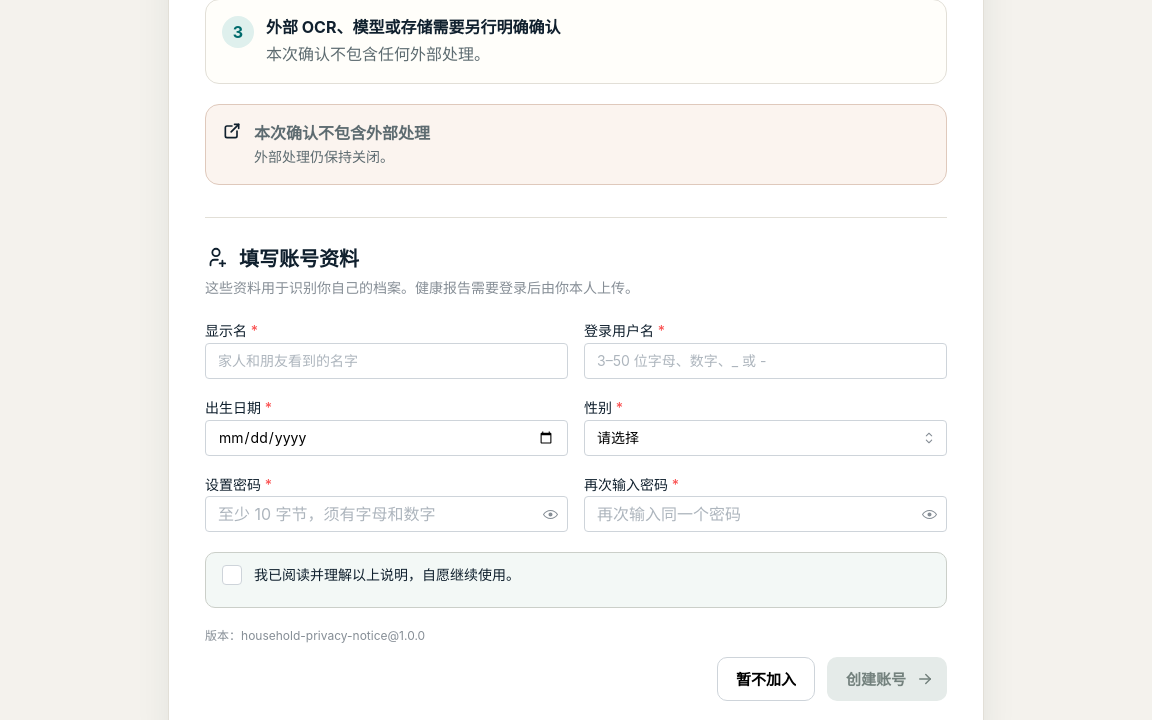
Test: AccountInvitationActivation › activates one ordinary account only after explicit confirmation
(page scrolled)
Type "虚构成员甲" into the field labelled "显示名".
click(386, 361); type("虚构成员甲")  # box [205,343,568,379]
Type "member01" into the field labelled "登录用户名".
click(766, 361); type("member01")  # box [584,343,947,379]
Type "1990-01-01" into the date field labelled "出生日期".
click(386, 438); type("1990-01-01")  # box [205,420,568,456]
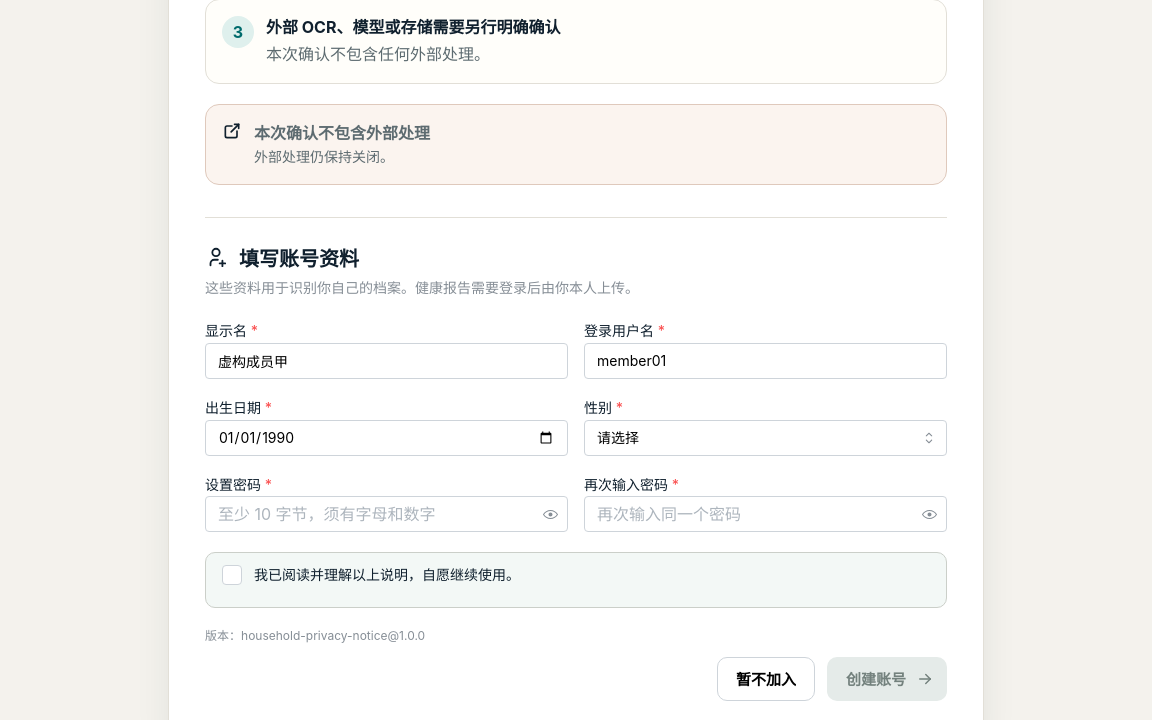
Select "暂不说明" in the dropdown labelled "性别" at (766, 438), box [584,420,947,456]
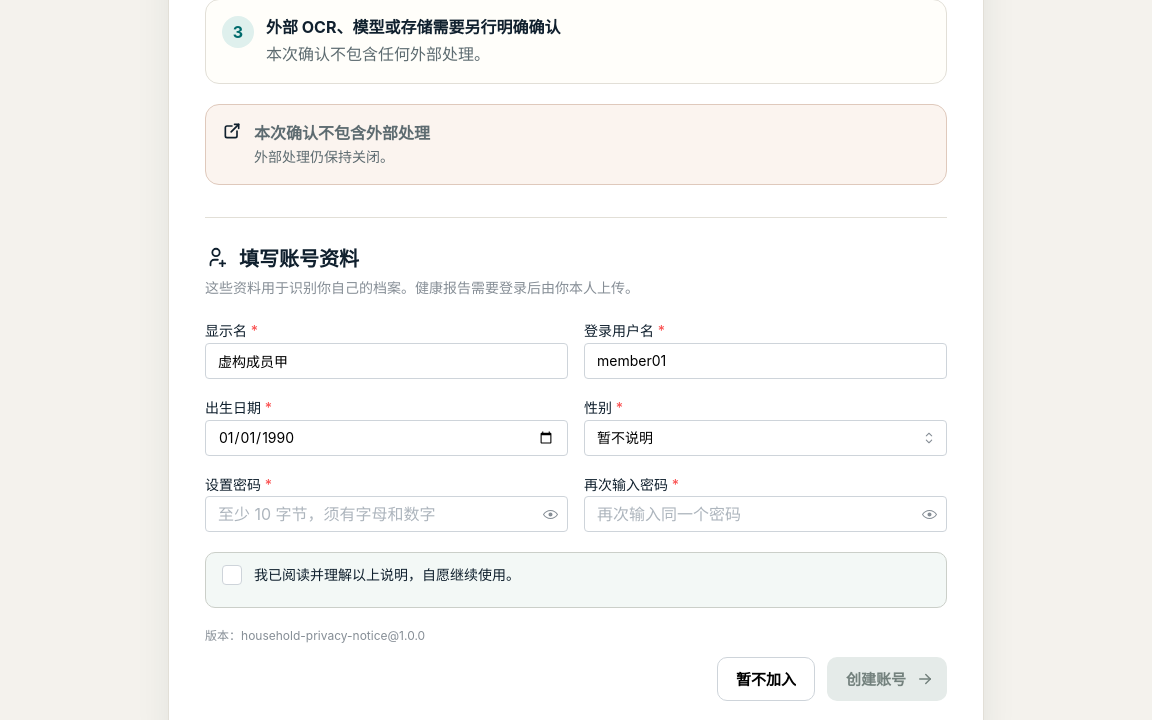
Type "SyntheticMemberPassword9" into the password field labelled "设置密码".
click(386, 514); type("SyntheticMemberPassword9")  # box [206,497,567,531]
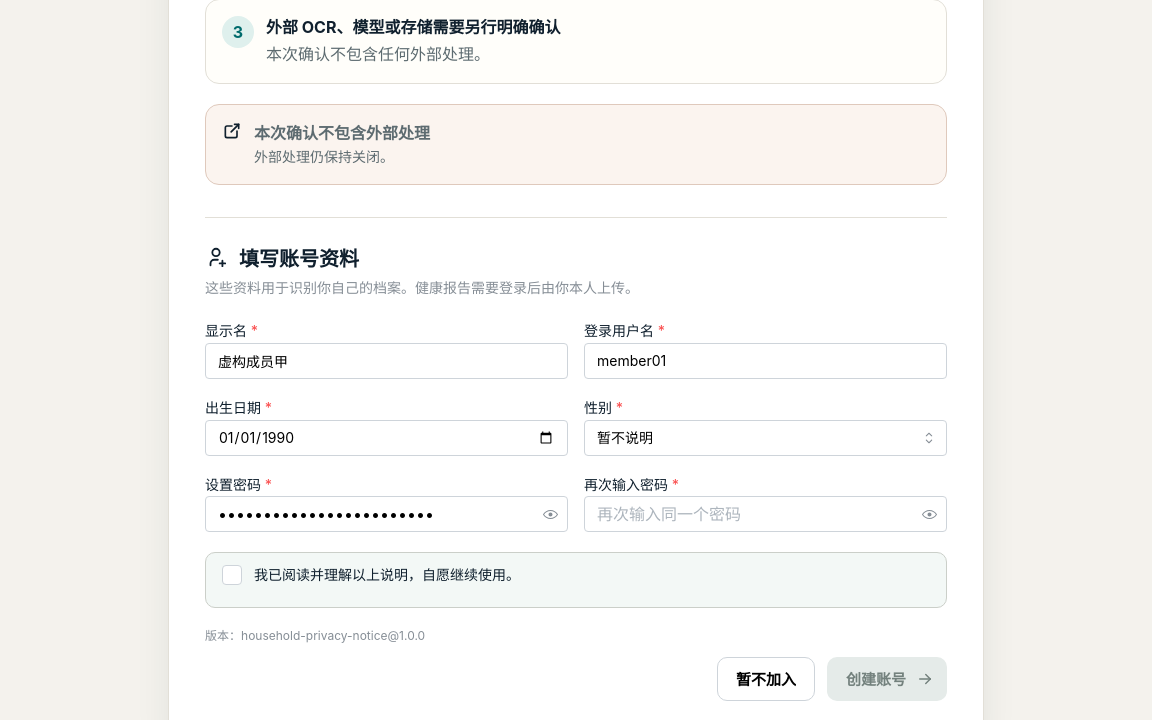
Type "SyntheticMemberPassword9" into the password field labelled "再次输入密码".
click(766, 514); type("SyntheticMemberPassword9")  # box [585,497,946,531]
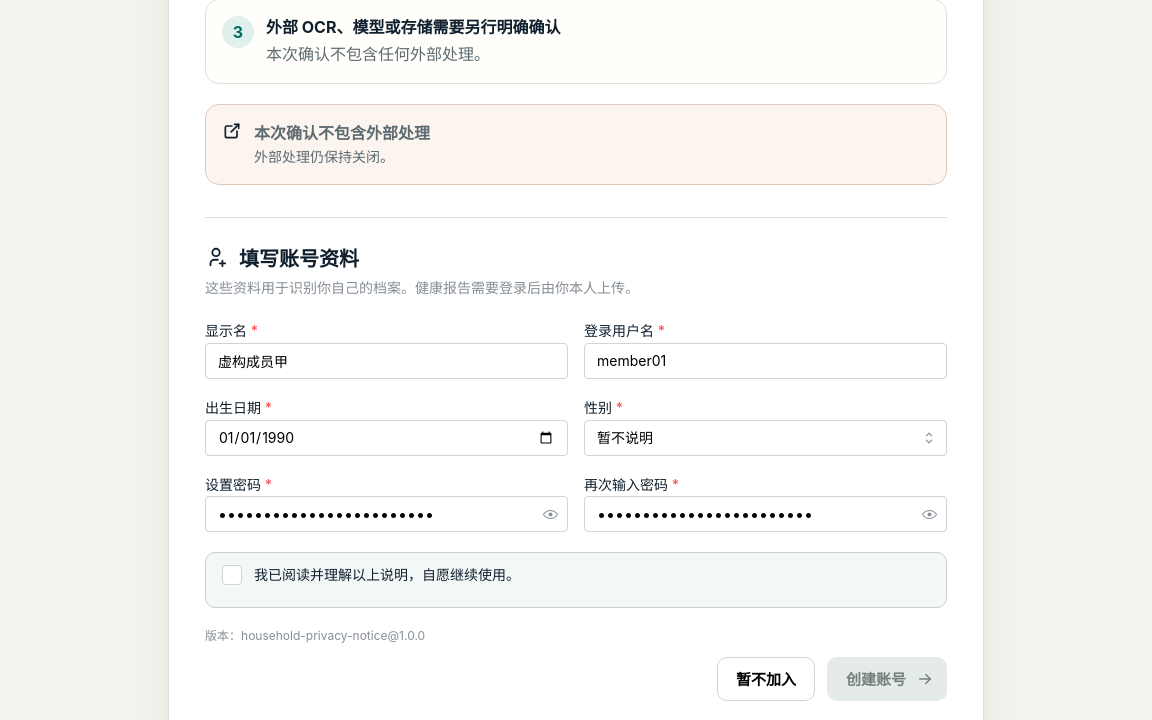
Click the checkbox labelled "我已阅读并理解以上说明，自愿继续使用。".
click(232, 575)  # box [222,565,242,585]
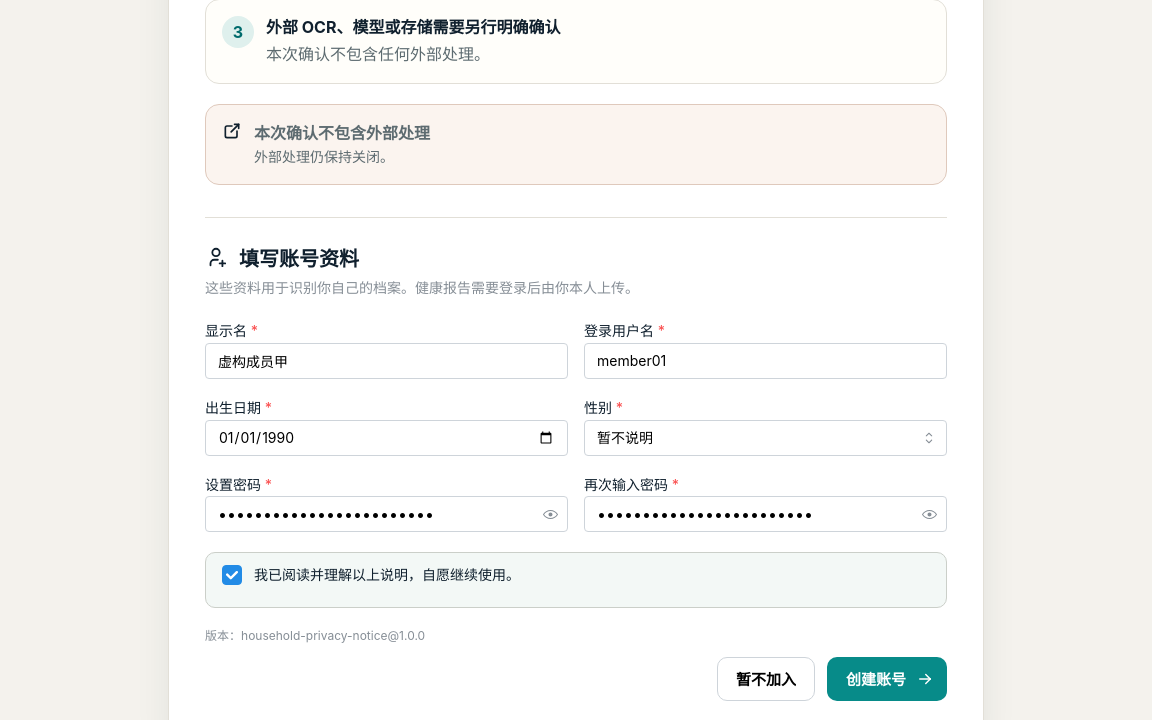
Expected: the button "创建账号" is enabled
Click the button "创建账号".
click(887, 679)  # box [827,657,947,701]
(page scrolled)
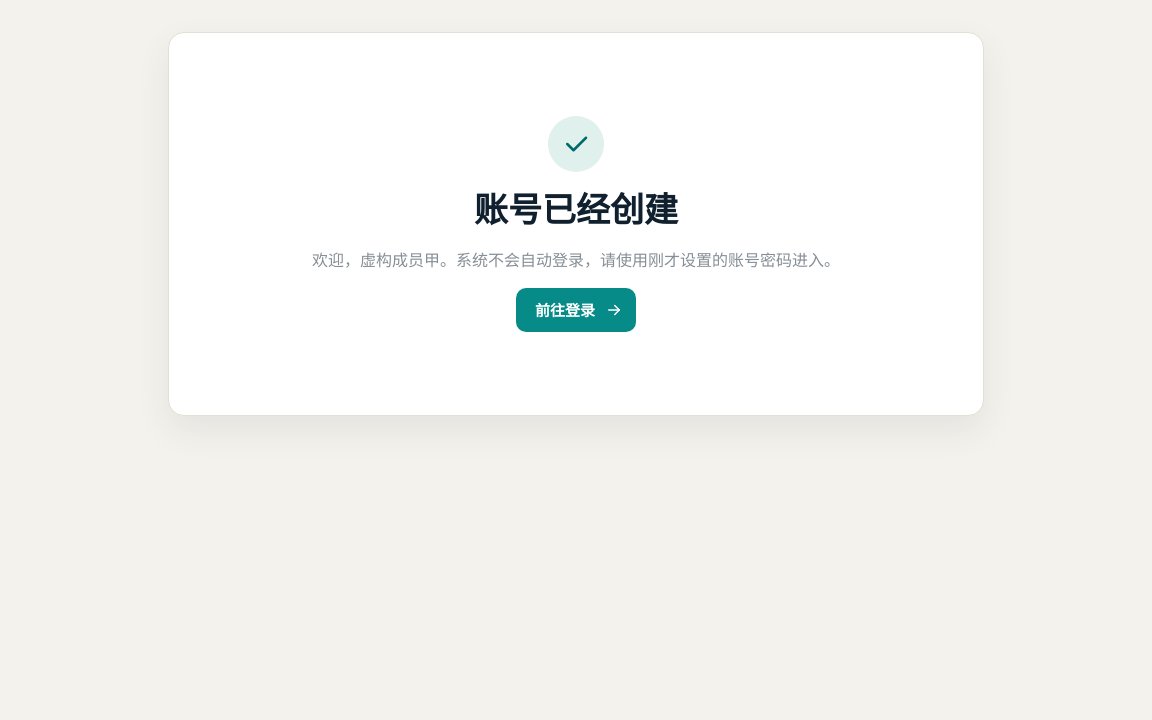
Expected: the heading "账号已经创建" is shown, [474,188,678,232]
